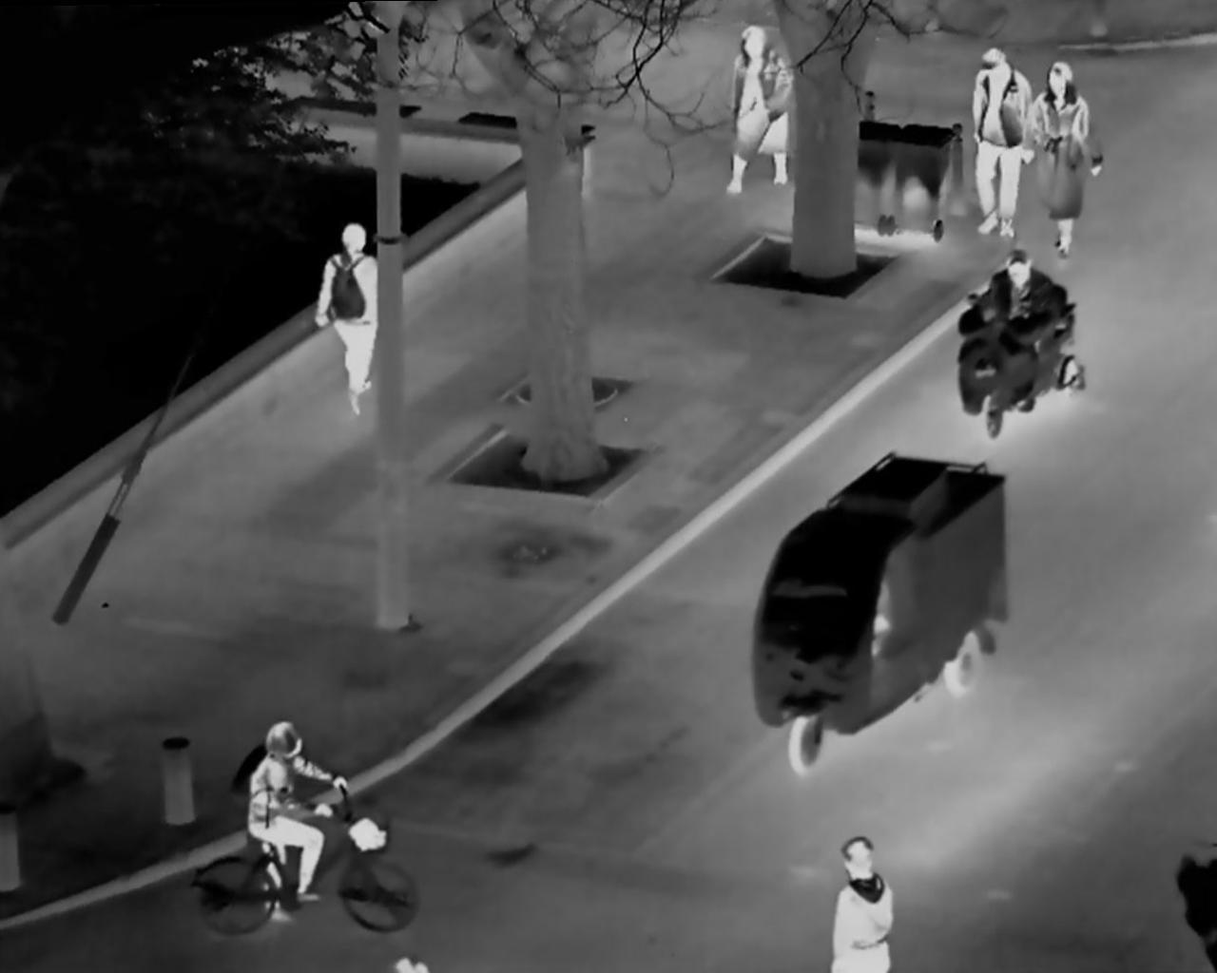person: (208, 709, 374, 930), (314, 204, 392, 417), (1027, 49, 1108, 253), (958, 37, 1034, 238), (816, 827, 918, 973), (716, 15, 795, 200), (976, 251, 1083, 384)
